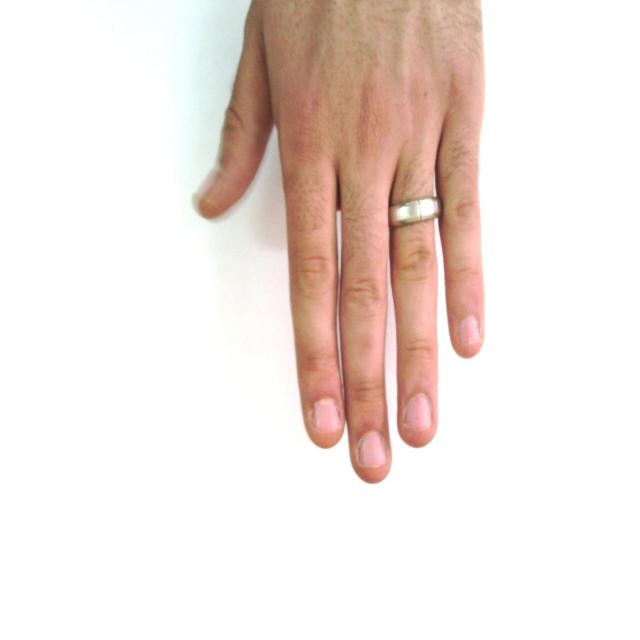others: (182, 1, 496, 483)
